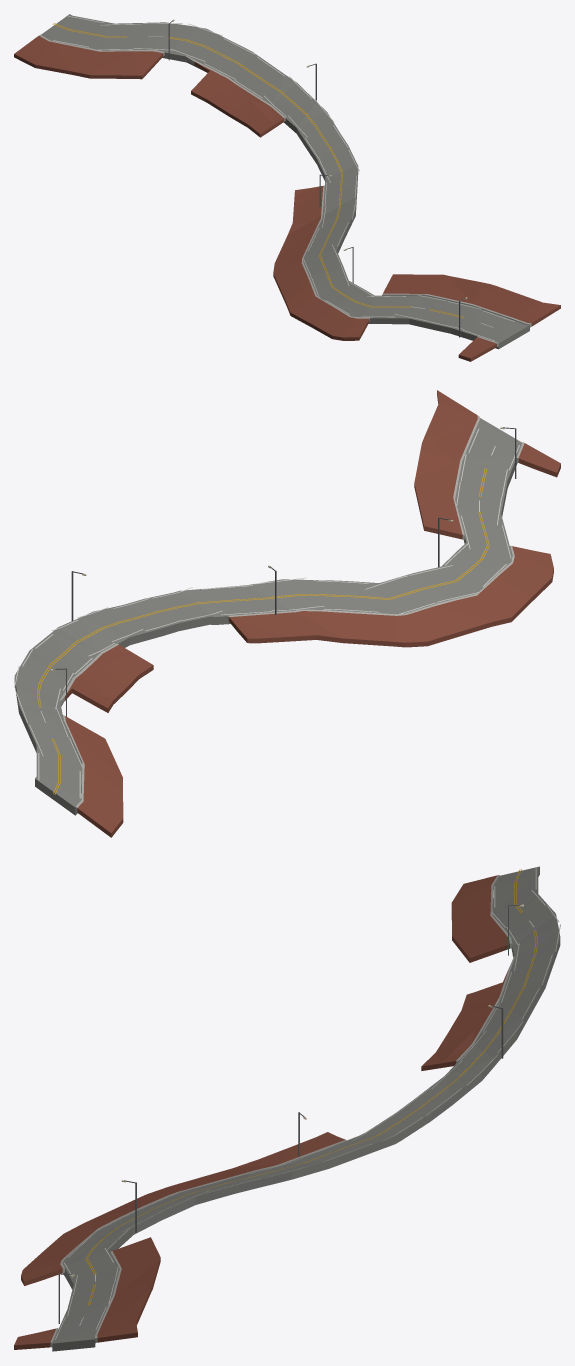
The picture shows the model from 3 angles, top to bottom: view 1: azimuth 30°, elevation 25°; view 2: azimuth 150°, elevation 25°; view 3: azimuth 330°, elevation 25°; orthographic projection. The views are drawn at different scales.
Size of the model in its own units: 37.19 by 21.43 by 146.
